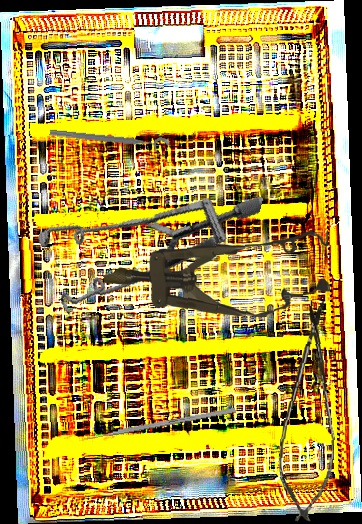Fixation Ring: (48, 125, 170, 159)
Micro Scissor: (276, 298, 342, 524)
Pusher: (77, 406, 237, 444)
Speculum: (21, 143, 264, 355), (102, 227, 331, 323)
